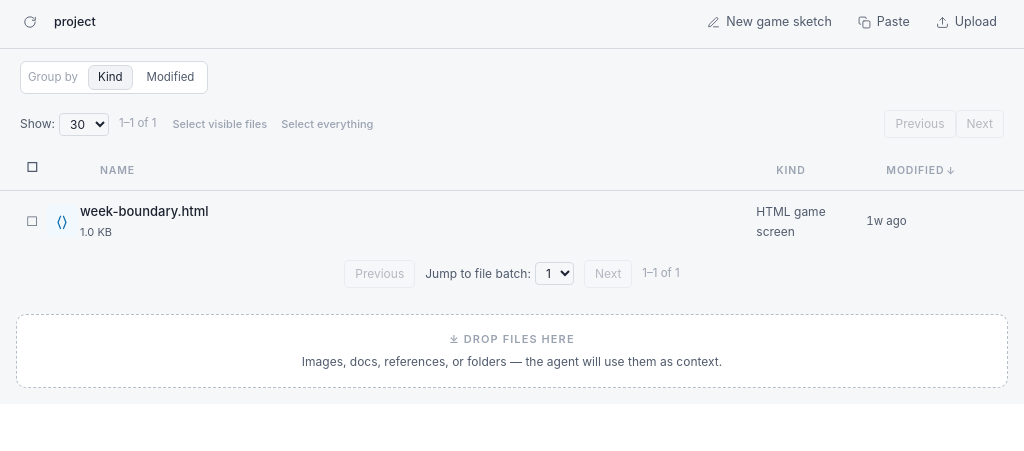
GameFilesPanel grouping › keeps files at the seven calendar day boundary in the previous 7 days group
What coordinates should you click on to do the following:
click the button "Modified"
I would click on:
 (170, 77)
Its box is [136,65,204,90].
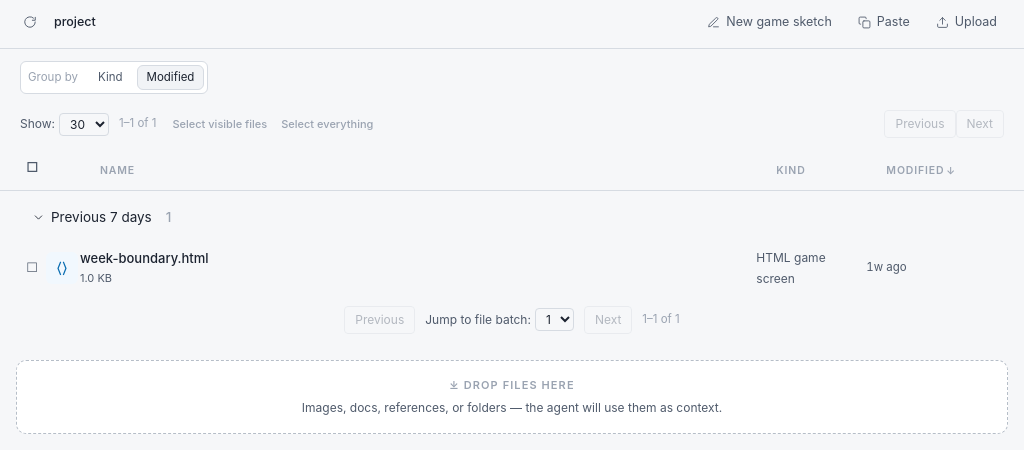
Expected: the row with test id "game-file-row-week-boundary.html" is shown, [0,237,1023,298]
Now the text "Previous 7 days" is shown, box [51,207,152,227]
